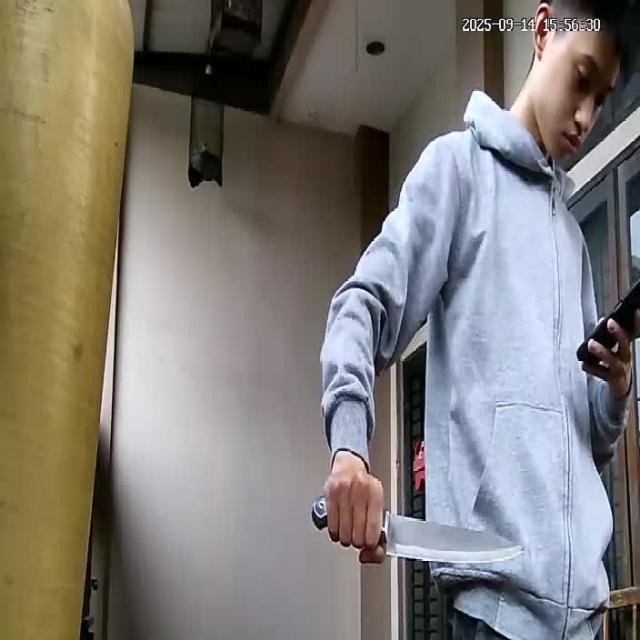senjata_tajam: (382, 511, 528, 565)
